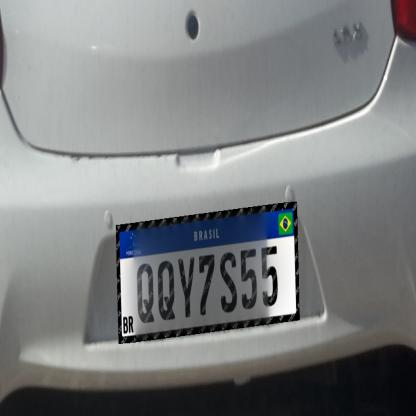PlacaM: (116, 202, 300, 344)
